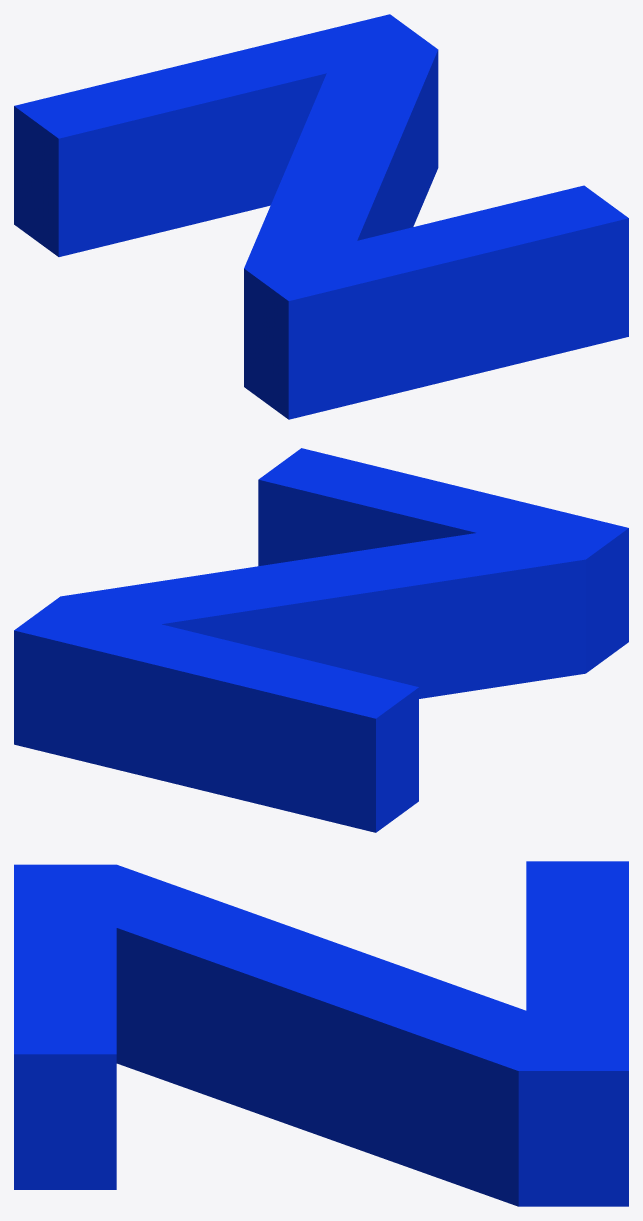
The model's file is ExpLetterZ.FBX.
3 renders of one model, top to bottom at view 1: azimuth 30°, elevation 25°; view 2: azimuth 150°, elevation 25°; view 3: azimuth 270°, elevation 25°, orthographic. The views are drawn at different scales.
Parts seen in each view (by area): view 1: Saliente-Extruir1; view 2: Saliente-Extruir1; view 3: Saliente-Extruir1.
Boxes of the visible parts, bbox=[...] form: Saliente-Extruir1: bbox=[14, 14, 628, 419]; Saliente-Extruir1: bbox=[14, 448, 628, 832]; Saliente-Extruir1: bbox=[14, 861, 628, 1206].
Size of the model in its own units: 0.392 by 0.1181 by 0.4854.
